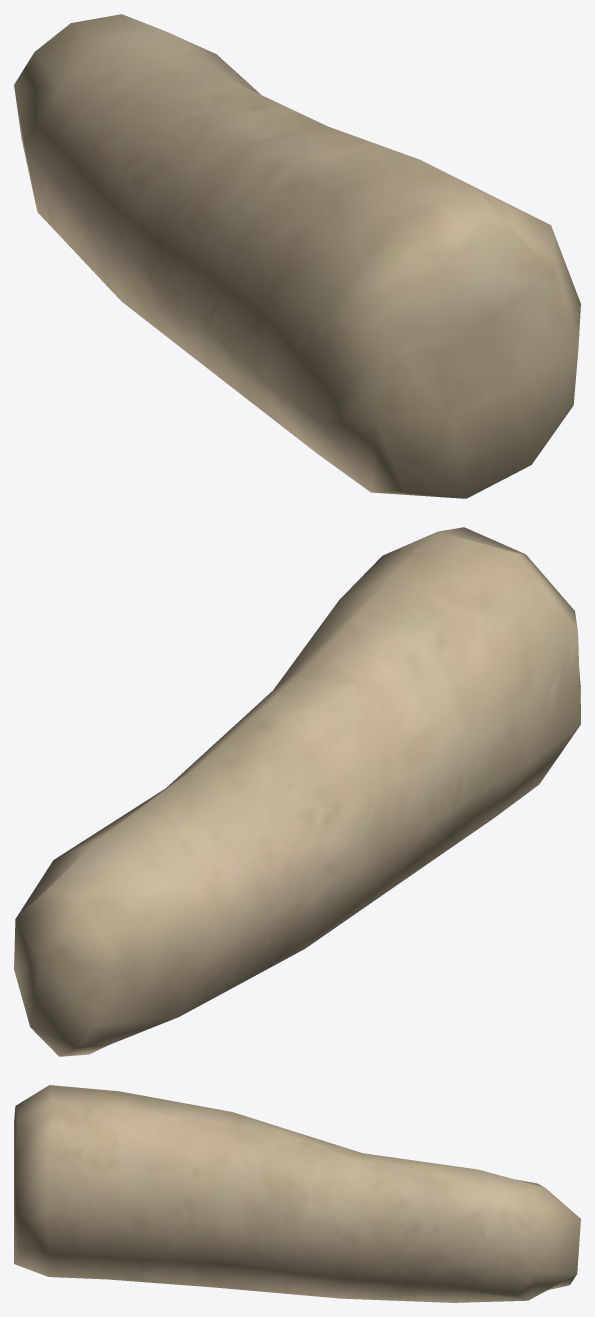
The model's file is Caudal_Vertebrae.glb.
The picture shows the model from 3 angles, top to bottom: view 1: azimuth 30°, elevation 25°; view 2: azimuth 150°, elevation 25°; view 3: azimuth 270°, elevation 25°; orthographic projection. The views are drawn at different scales.
Parts seen in each view (by area): view 1: Caudal_Vertebrae_38:Group52327; view 2: Caudal_Vertebrae_38:Group52327; view 3: Caudal_Vertebrae_38:Group52327.
Boxes of the visible parts, bbox=[...] form: Caudal_Vertebrae_38:Group52327: bbox=[14, 14, 580, 498]; Caudal_Vertebrae_38:Group52327: bbox=[14, 527, 580, 1056]; Caudal_Vertebrae_38:Group52327: bbox=[14, 1085, 580, 1302].
Bounding box in the file's own units: 1.6 × 1.81 × 5.
1 material, 1 textured.
